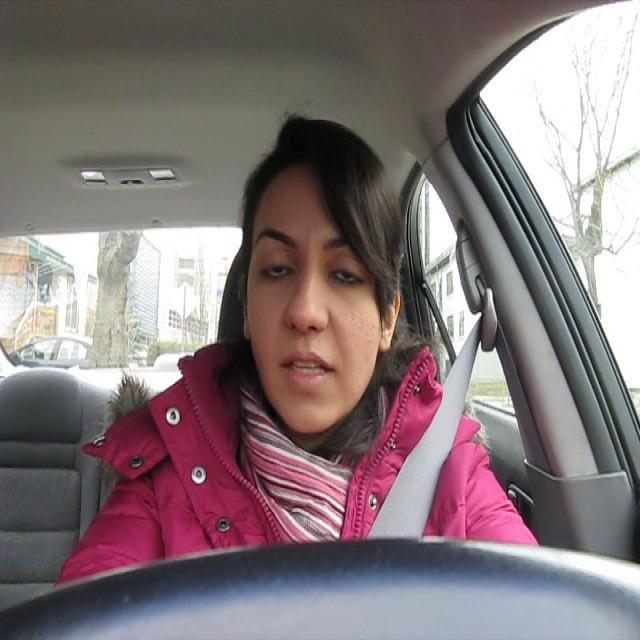Eyeclosed: (330, 256, 363, 299), (263, 252, 293, 290)
